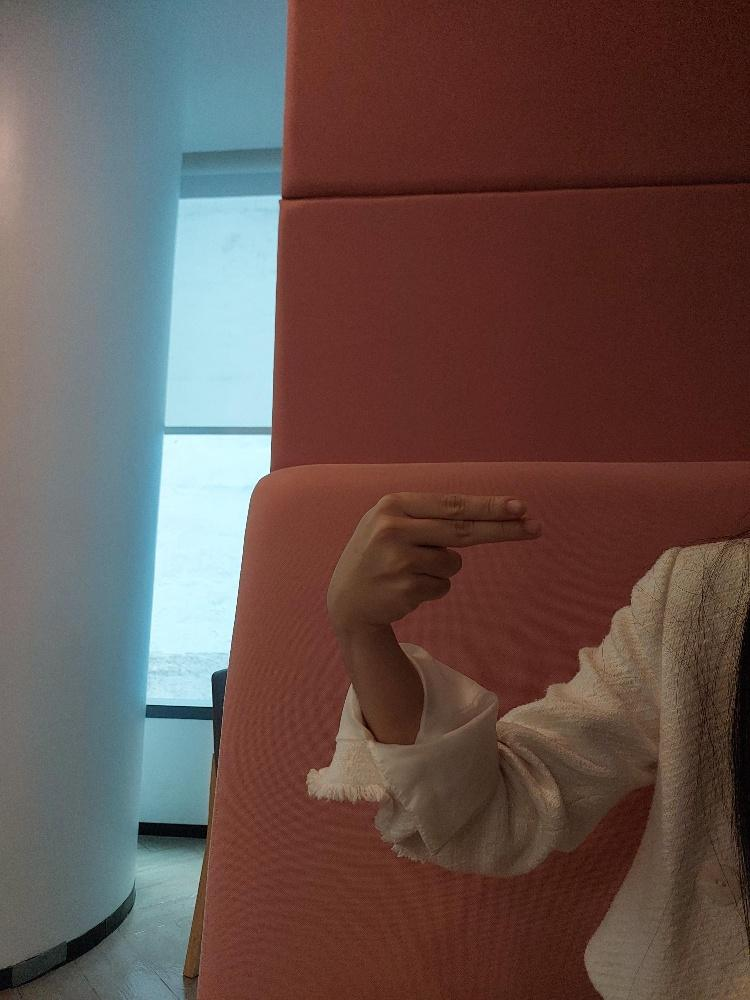h: (327, 490, 542, 624)
